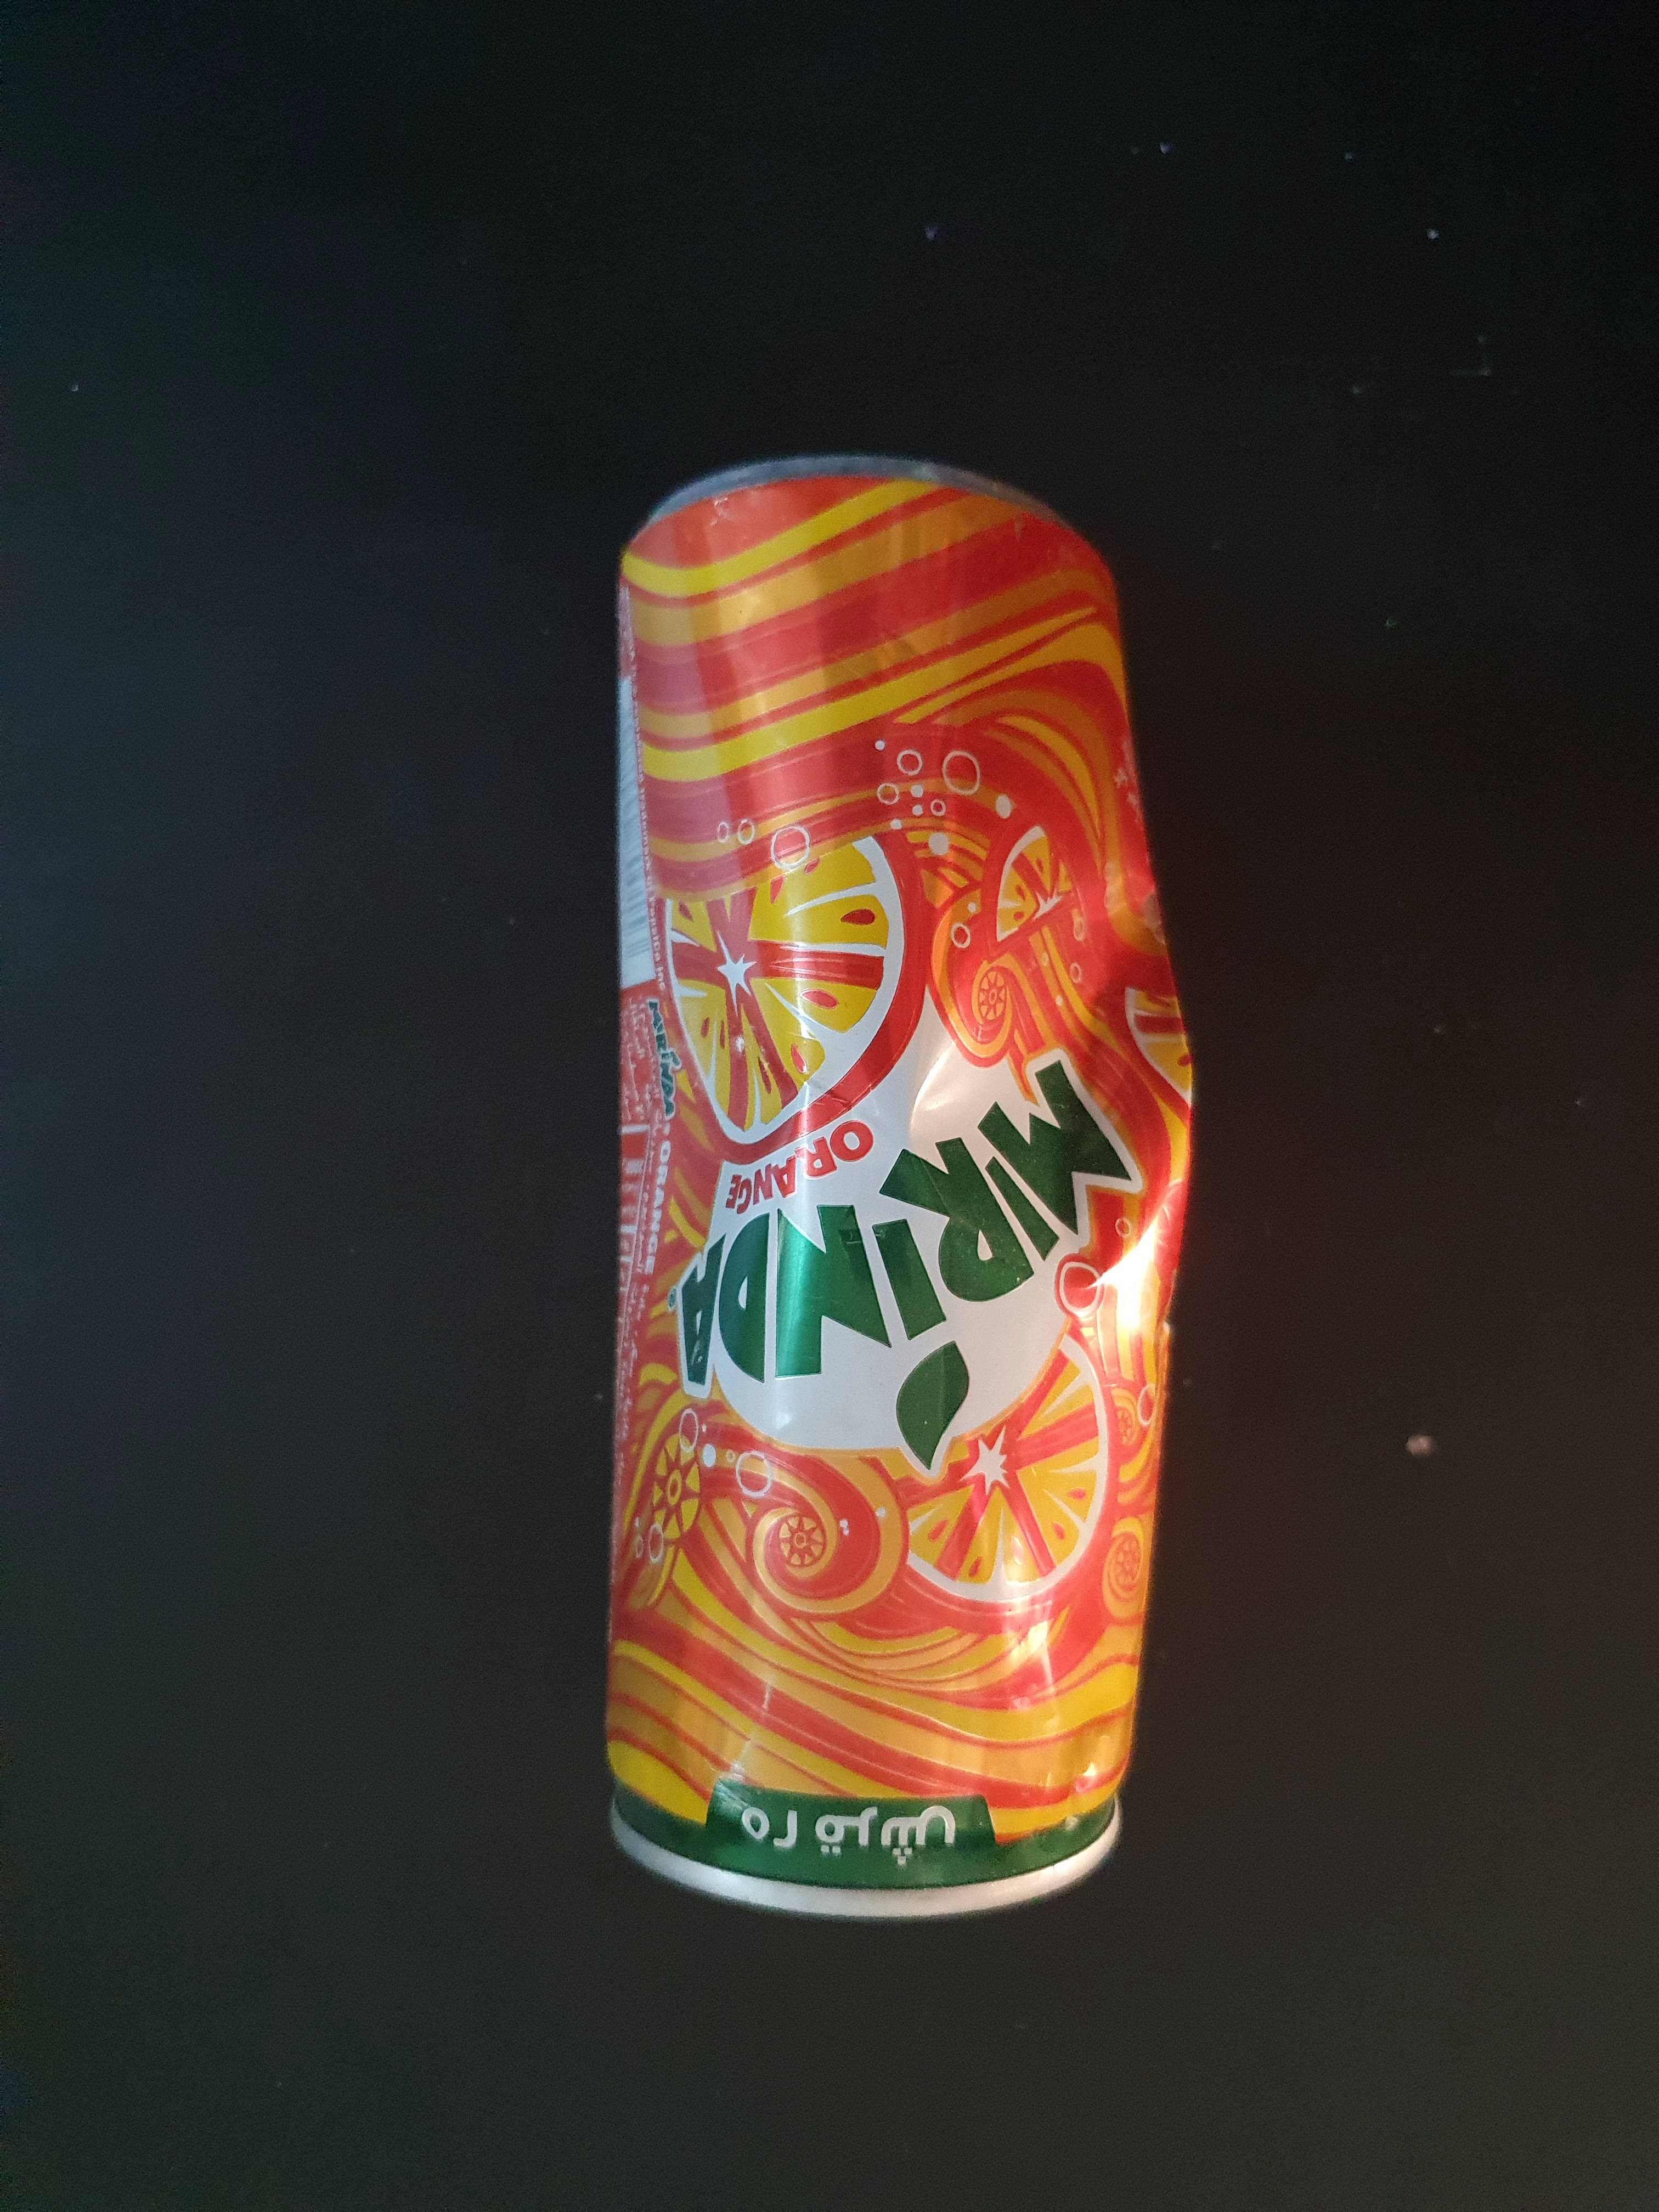metal: (558, 381, 1232, 1952)
